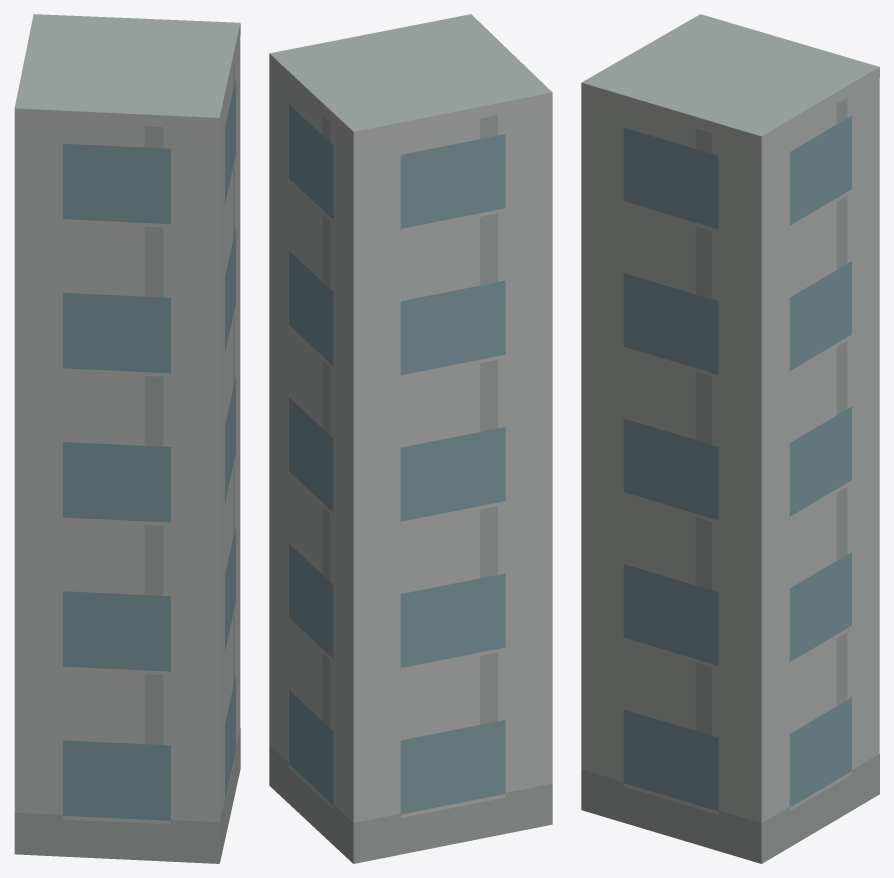
The model's file is survey-upis-32696263.glb.
3 views of the same model, side by side, from view 1: azimuth 30°, elevation 25°; view 2: azimuth 150°, elevation 25°; view 3: azimuth 270°, elevation 25° (orthographic). The views are drawn at different scales.
Visible parts, largest first — view 1: survey-upis-32696263.tmp; view 2: survey-upis-32696263.tmp; view 3: survey-upis-32696263.tmp.
Part boxes in pixels (x1=…): survey-upis-32696263.tmp: x1=14, y1=14, x2=240, y2=863; survey-upis-32696263.tmp: x1=269, y1=14, x2=552, y2=863; survey-upis-32696263.tmp: x1=581, y1=14, x2=879, y2=863.
Size of the model in its own units: 5.51 by 15.25 by 5.68.
